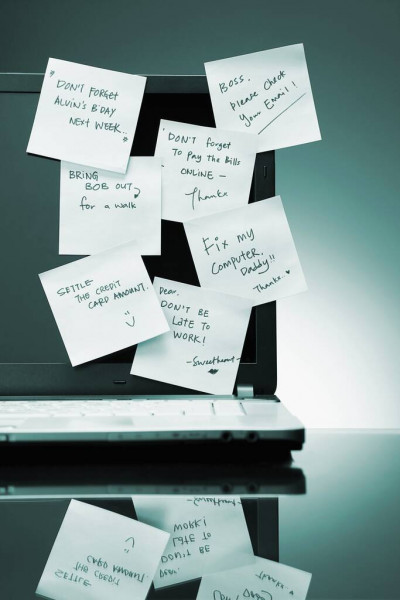Note: (186, 195, 310, 313), (132, 275, 251, 397), (39, 255, 168, 367), (27, 57, 146, 173), (205, 42, 323, 151), (153, 117, 255, 223), (59, 156, 160, 253)
